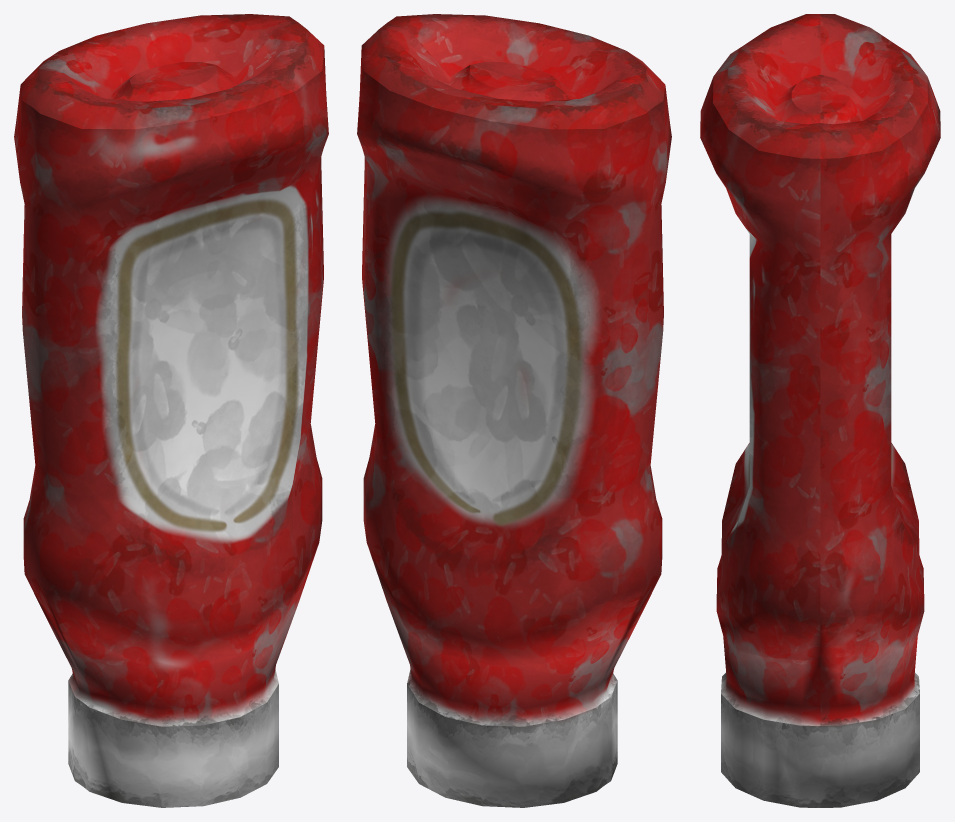
The model's file is chai9.glb.
The picture shows the model from 3 angles, left to right: view 1: azimuth 30°, elevation 25°; view 2: azimuth 150°, elevation 25°; view 3: azimuth 270°, elevation 25°; orthographic projection. The views are drawn at different scales.
Parts seen in each view (by area): view 1: defaultMaterial; view 2: defaultMaterial; view 3: defaultMaterial.
Boxes of the visible parts, x1,y1,x2,y2 form: defaultMaterial: [14, 14, 328, 807]; defaultMaterial: [357, 14, 671, 807]; defaultMaterial: [700, 14, 940, 807].
Bounding box in the file's own units: 0.0162 × 0.0388 × 0.0122.
1 material, 1 textured.
